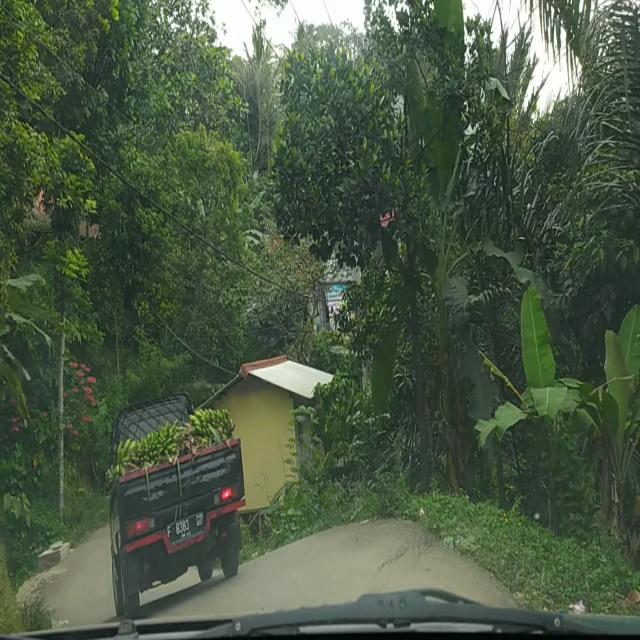Drain Hole: (373, 519, 437, 576)
